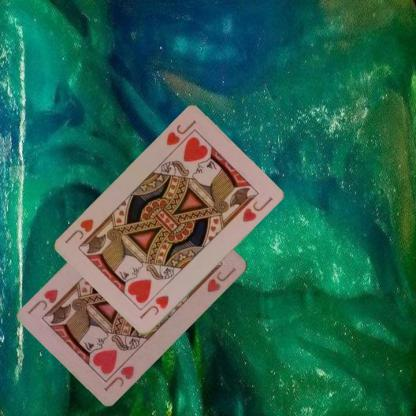Jh: (163, 118, 198, 156), (101, 362, 136, 392), (136, 293, 171, 321)
